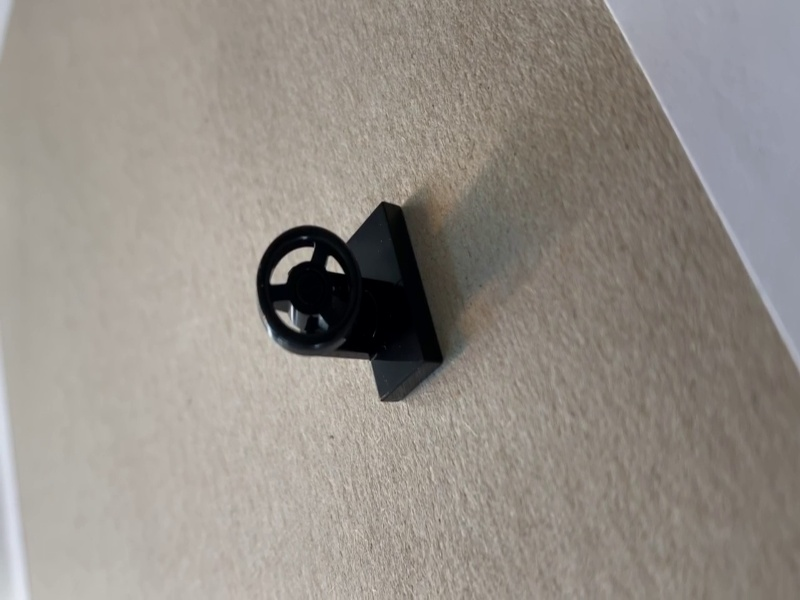steering wheel: (257, 200, 444, 404)
